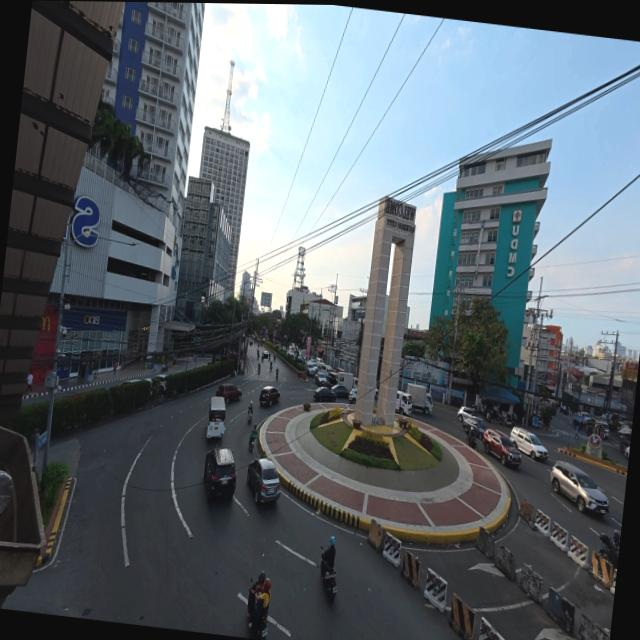car: (550, 461, 608, 514), (203, 448, 235, 499), (247, 458, 280, 504), (482, 428, 520, 467), (462, 418, 486, 440), (216, 383, 241, 403), (258, 386, 279, 406), (457, 406, 481, 422), (313, 387, 335, 402), (151, 374, 166, 393), (330, 385, 349, 398), (325, 372, 337, 387), (119, 378, 141, 386), (314, 371, 325, 387), (227, 350, 238, 361), (348, 388, 356, 403), (306, 365, 316, 376), (315, 358, 323, 368), (623, 446, 629, 458), (261, 351, 268, 360), (288, 350, 294, 358), (249, 340, 252, 345)
motorcycle: (247, 583, 267, 639), (598, 534, 618, 569), (320, 568, 336, 602), (248, 426, 257, 452), (502, 412, 514, 427), (465, 433, 476, 449), (618, 439, 630, 451), (161, 362, 167, 371), (247, 410, 251, 422), (256, 364, 259, 374), (256, 351, 259, 360), (275, 368, 277, 380), (269, 363, 271, 370)
trucks: (406, 384, 432, 414), (395, 391, 412, 415), (336, 372, 353, 390)
vans: (509, 427, 547, 460), (206, 396, 225, 438), (320, 365, 331, 374)
